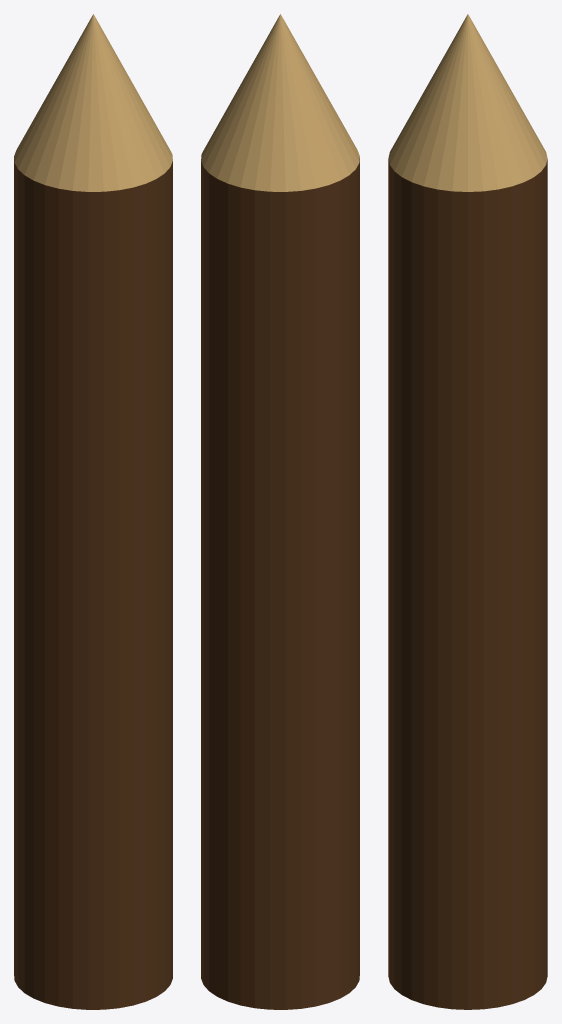
The model's file is lvl1.glb.
3 views of the same model, side by side, from view 1: azimuth 30°, elevation 25°; view 2: azimuth 150°, elevation 25°; view 3: azimuth 270°, elevation 25° (orthographic).
Parts seen in each view (by area): view 1: Cylinder.002, Cylinder.003; view 2: Cylinder.002, Cylinder.003; view 3: Cylinder.002, Cylinder.003.
Part boxes in pixels (box(x1,y1,x2,y2)): Cylinder.002: box(14, 158, 172, 1009); Cylinder.003: box(14, 14, 172, 191); Cylinder.002: box(201, 158, 359, 1009); Cylinder.003: box(201, 14, 359, 191); Cylinder.002: box(388, 159, 547, 1009); Cylinder.003: box(388, 14, 547, 191).
Bounding box in the file's own units: 0.15 × 1 × 0.15.
